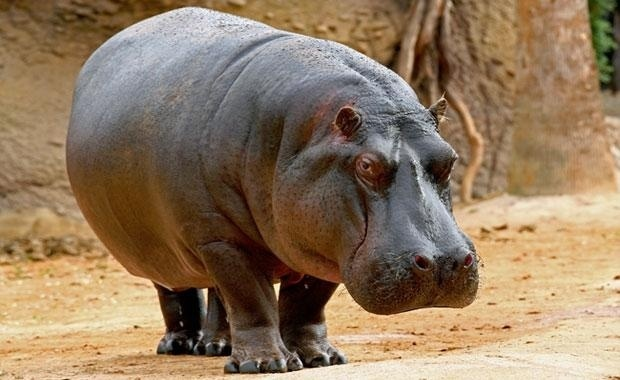hipopotamo: (49, 1, 513, 376)
